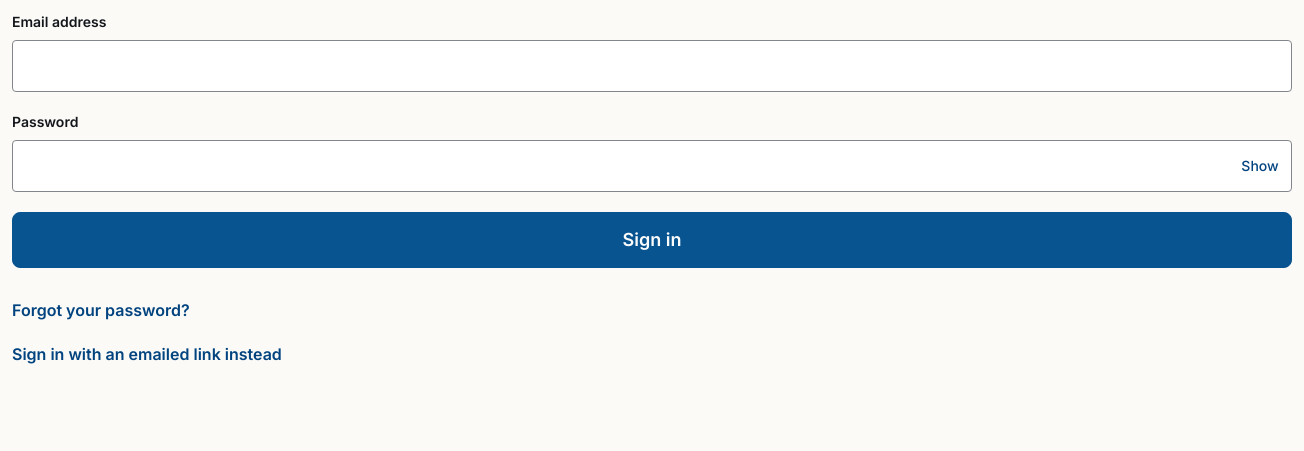
it: SignInPanel › announces a wrong password on the password field, and keeps the email
Type "a@school.edu" into the field labelled "Email address" at (652, 66), box x1=12 y1=40 x2=1292 y2=92
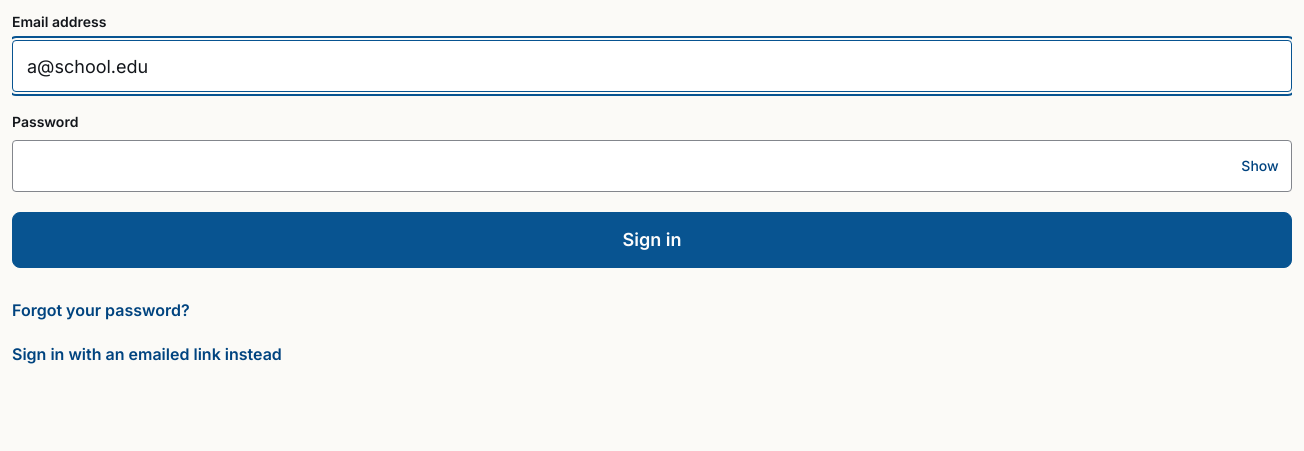
Type "wrong horse" into the password field labelled "Password" at (652, 166), box x1=12 y1=140 x2=1292 y2=192
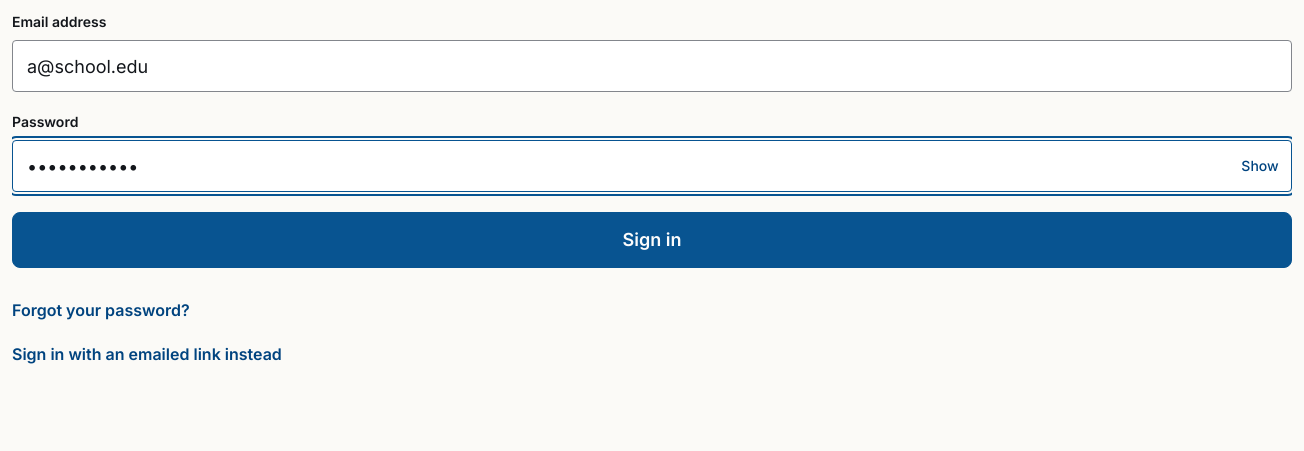
Click the button "Sign in" at (652, 240), box x1=12 y1=212 x2=1292 y2=268
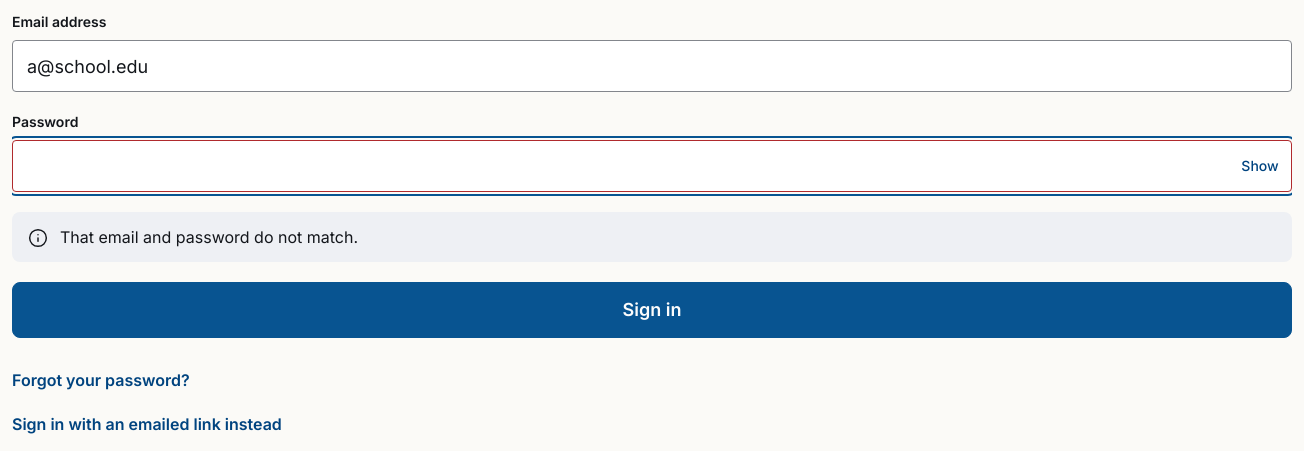
Expected: the message reads "That email and password do not match.", x1=60 y1=227 x2=358 y2=247
